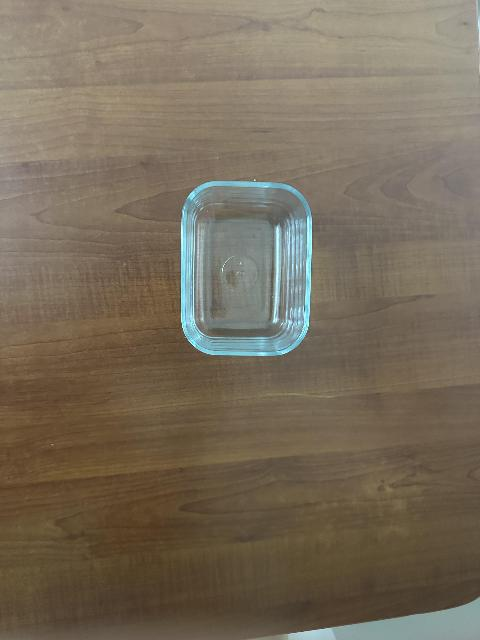Cam: (176, 178, 313, 359)
